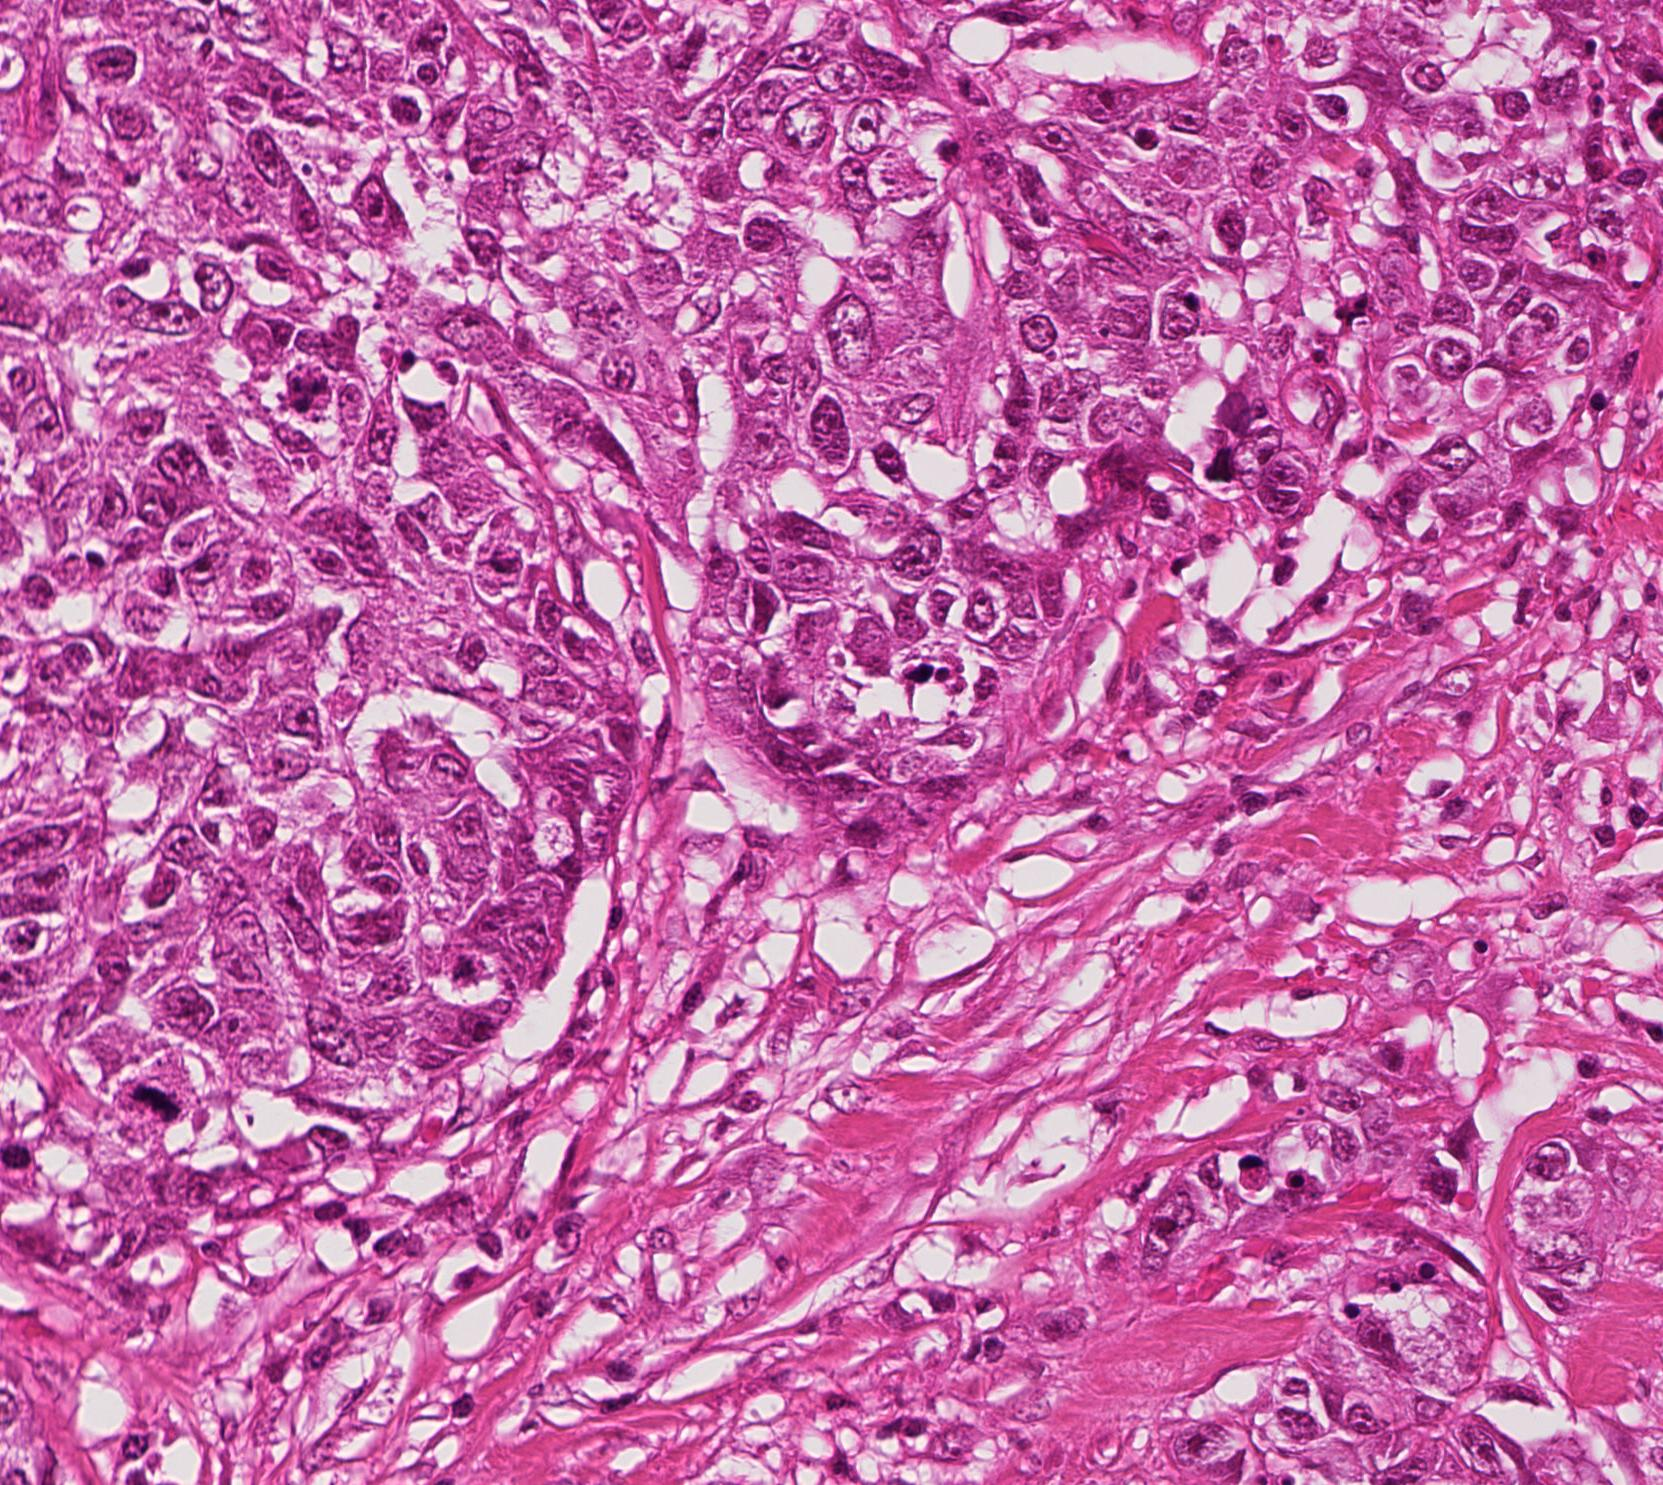mitosis: (123, 1064, 184, 1122)
